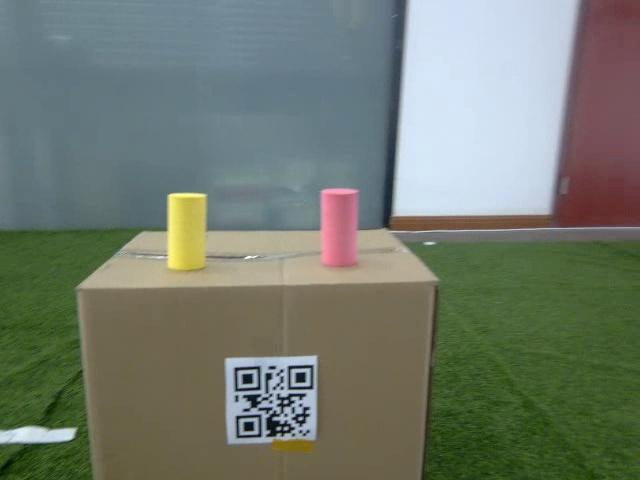red_cylinder: (319, 188, 359, 268)
yellow_cylinder: (166, 192, 208, 270)
